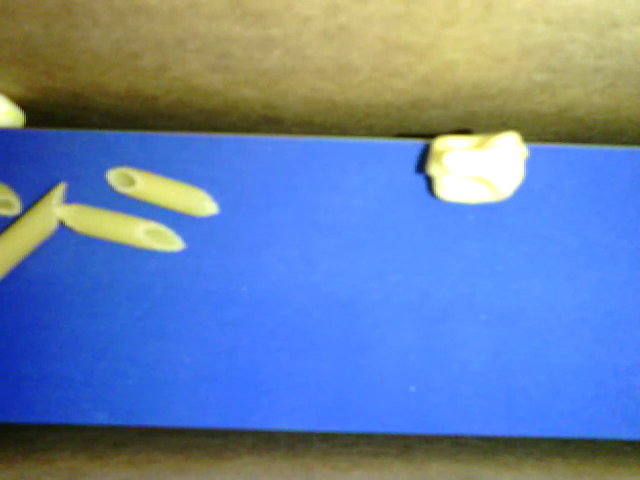penne: (51, 203, 185, 253), (1, 181, 67, 279), (104, 165, 220, 217)
tortellini: (425, 129, 528, 203)
